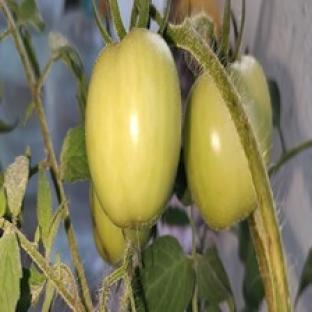Tomato: (85, 28, 181, 228), (184, 74, 254, 229), (91, 187, 150, 266), (230, 55, 272, 164)
